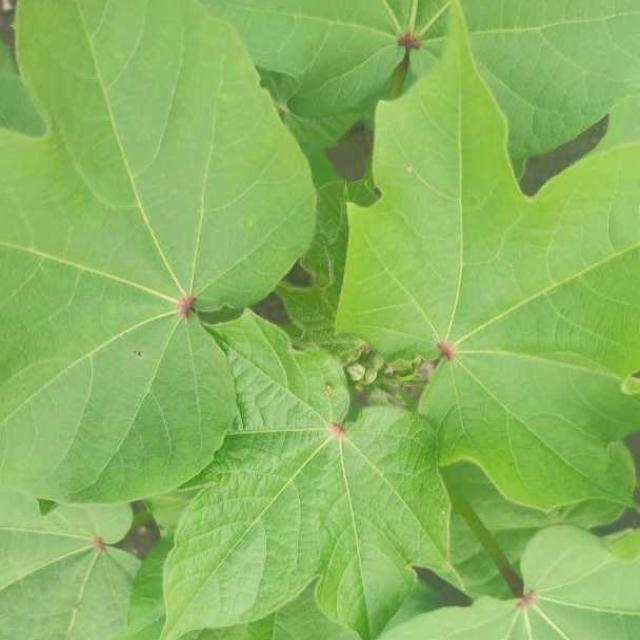Healthy Leaf: (28, 55, 640, 640)
